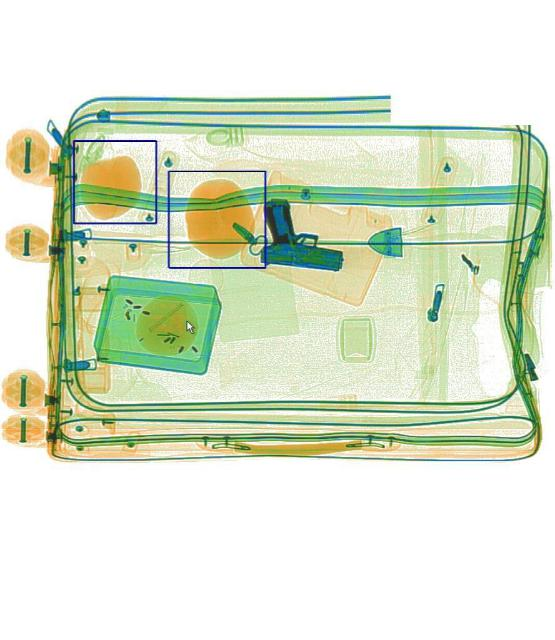Gun: (257, 195, 346, 272)
